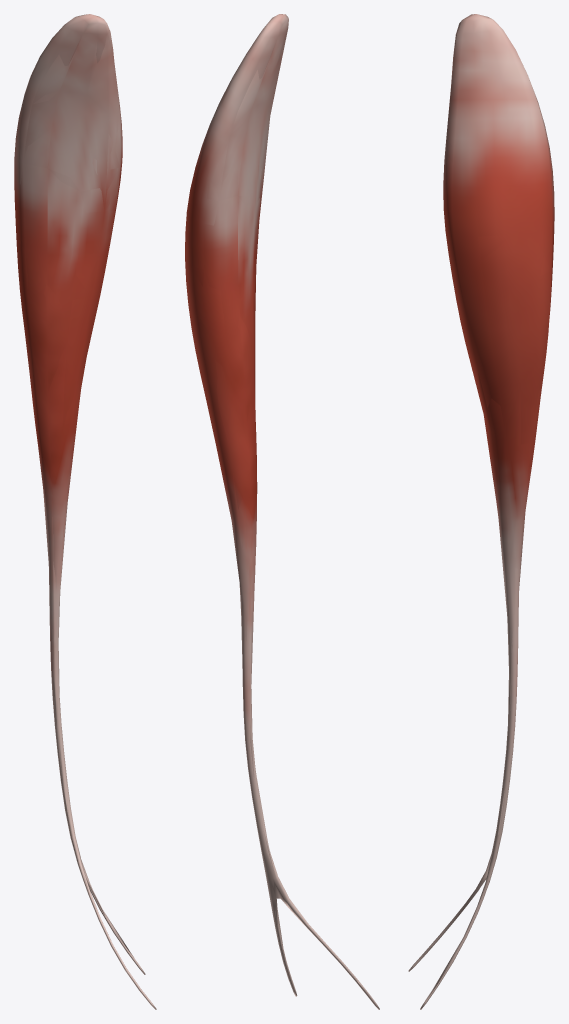
File: L Common Digital Extensor.fbx
The picture shows the model from 3 angles, left to right: view 1: azimuth 90°, elevation 25°; view 2: azimuth 150°, elevation 25°; view 3: azimuth 270°, elevation 25°; orthographic projection. The views are drawn at different scales.
Visible parts, largest first — view 1: L Common Digital Extensor low, L Common Digital Extensor; view 2: L Common Digital Extensor, L Common Digital Extensor low; view 3: L Common Digital Extensor, L Common Digital Extensor low.
Boxes of the visible parts, x1,y1,x2,y2 form: L Common Digital Extensor low: (14, 14, 137, 986); L Common Digital Extensor: (14, 14, 156, 1009); L Common Digital Extensor: (185, 14, 379, 1009); L Common Digital Extensor low: (185, 14, 368, 994); L Common Digital Extensor: (408, 14, 554, 1009); L Common Digital Extensor low: (410, 14, 552, 998).
Bounding box in the file's own units: 3.05 × 21.12 × 2.83.
